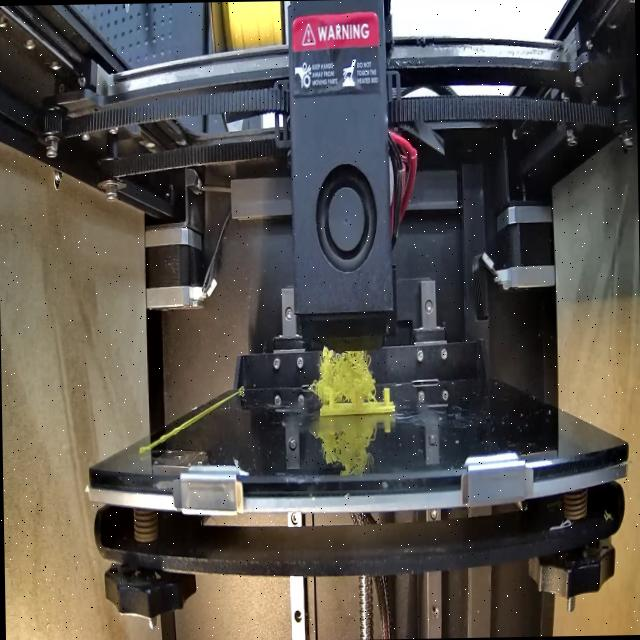spaghetti: (301, 342, 378, 403)
